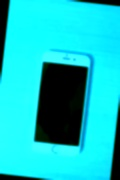iphone: (32, 52, 83, 156)
